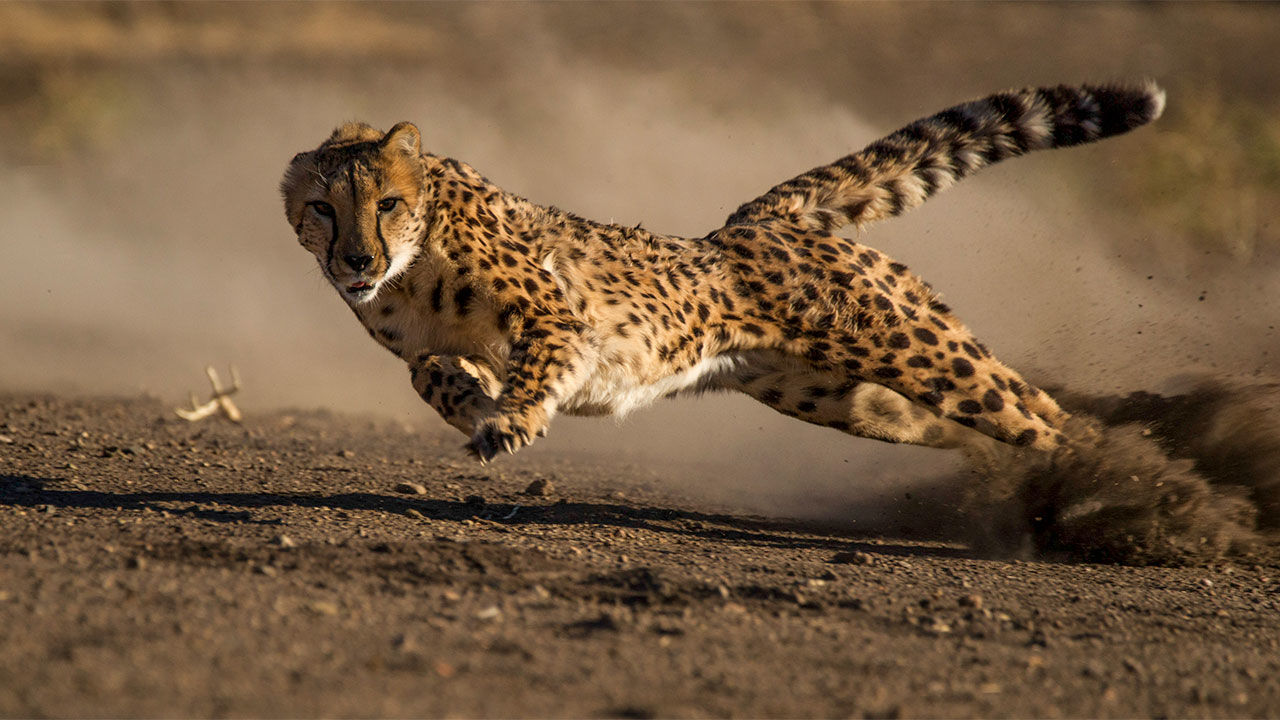cheetah: (254, 106, 467, 327)
